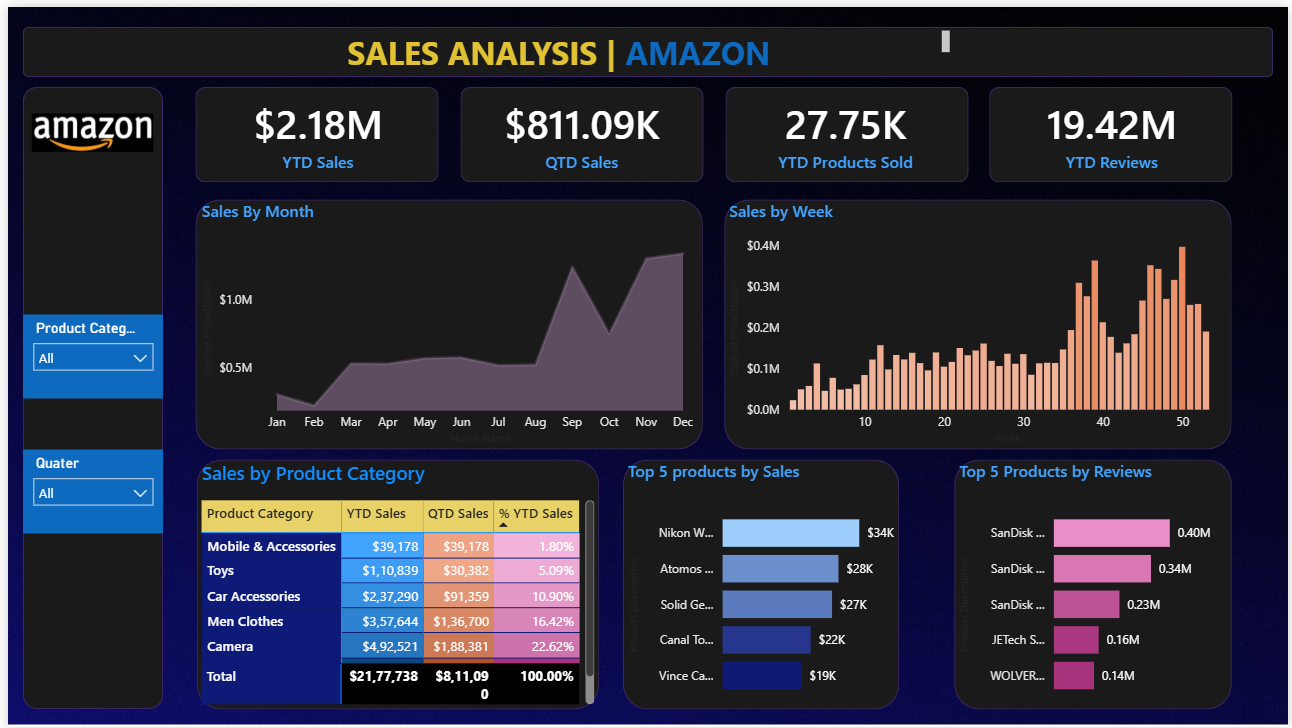

The page's visual inventory and layout, read from the dashboard file:
{"tool":"powerbi","page":{"name":"Page 1","canvas":[1280,720],"ordinal":0},"visuals":[{"type":"shape","box":[187.2,80.2,243,95.3],"z":0,"group":"g1"},{"type":"shape","box":[188.8,452.5,402.5,250],"z":0},{"type":"shape","box":[15.1,19.8,1250,50],"z":1000},{"type":"card","fields":{"Values":["Amazon_Data.YTD Sales"]},"box":[188.4,80.2,243,93],"z":1000,"group":"g1"},{"type":"textbox","box":[333.7,18.6,612.8,52.3],"z":2000},{"type":"shape","box":[451.9,80.2,243,95.3],"z":2000,"group":"g1"},{"type":"group","id":"g1","title":"Group 1","box":[187.2,80.2,1038.4,95.3],"z":3000},{"type":"shape","box":[716.7,80.2,243,95.3],"z":3000,"group":"g1"},{"type":"shape","box":[981.4,80.2,243,95.3],"z":4000,"group":"g1"},{"type":"shape","box":[187.5,192.5,507.5,250],"z":4000},{"type":"card","fields":{"Values":["Amazon_Data.QTD Sales"]},"box":[452.3,80.2,243,93],"z":5000,"group":"g1"},{"type":"areaChart","title":"Sales By Month","fields":{"Category":["Date Table.Month Name"],"Y":["Sum(Amazon_Data.Price(Dollar))"]},"box":[188.8,192.5,506.2,250],"z":5000},{"type":"card","fields":{"Values":["Amazon_Data.YTD Products Sold"]},"box":[716.3,80.2,243,93],"z":6000,"group":"g1"},{"type":"shape","box":[716.2,192.5,507.5,250],"z":6000},{"type":"card","fields":{"Values":["Amazon_Data.YTD Reviews"]},"box":[982.5,80.2,243,93],"z":7000,"group":"g1"},{"type":"columnChart","title":"Sales by Week","fields":{"Y":["Sum(Amazon_Data.Price(Dollar))"],"Category":["Date Table.Week"]},"box":[716.2,192.5,510,250],"z":7000},{"type":"pivotTable","title":"Sales by Product Category","fields":{"Rows":["Amazon_Data.Product Category"],"Values":["Amazon_Data.YTD Sales1","Amazon_Data.QTD Sales1","Amazon_Data.YTD Sales"]},"box":[188.8,452.5,402.5,250],"z":8000},{"type":"shape","box":[615,452.5,276.2,250],"z":9000},{"type":"shape","box":[946.2,452.5,277.5,250],"z":10000},{"type":"clusteredBarChart","title":"Top 5 products by Sales","fields":{"Category":["Amazon_Data.Product Description"],"Y":["Amazon_Data.YTD Sales"]},"box":[615,452.5,276.2,250],"z":11000},{"type":"clusteredBarChart","title":"Top 5 Products by Reviews","fields":{"Category":["Amazon_Data.Product Description"],"Y":["Amazon_Data.YTD Reviews"]},"box":[946.2,452.5,277.5,250],"z":12000},{"type":"shape","box":[15,80,140,622],"z":13000},{"type":"slicer","fields":{"Values":["Amazon_Data.Product Category"]},"box":[15,307.5,140,83.8],"z":14000},{"type":"slicer","fields":{"Values":["Date Table.Quater"]},"box":[15,442.5,140,83.8],"z":15000},{"type":"image","box":[23.8,22.5,121.2,206.2],"z":16000}]}

Visuals, with their boxes in screenshot pixels (x1, y1, x2, y2), scaled from the page's 1280x720 canvas onto the 1292x728 screenshot:
shape: select_region(189, 81, 434, 177)
shape: select_region(191, 458, 597, 710)
shape: select_region(15, 20, 1277, 71)
card - Amazon_Data.YTD Sales: select_region(190, 81, 435, 175)
textbox: select_region(337, 19, 955, 72)
shape: select_region(456, 81, 701, 177)
"Group 1" group: select_region(189, 81, 1237, 177)
shape: select_region(723, 81, 969, 177)
shape: select_region(991, 81, 1236, 177)
shape: select_region(189, 195, 702, 447)
card - Amazon_Data.QTD Sales: select_region(457, 81, 702, 175)
"Sales By Month" areaChart: select_region(191, 195, 702, 447)
card - Amazon_Data.YTD Products Sold: select_region(723, 81, 968, 175)
shape: select_region(723, 195, 1235, 447)
card - Amazon_Data.YTD Reviews: select_region(992, 81, 1237, 175)
"Sales by Week" columnChart: select_region(723, 195, 1238, 447)
"Sales by Product Category" pivotTable: select_region(191, 458, 597, 710)
shape: select_region(621, 458, 900, 710)
shape: select_region(955, 458, 1235, 710)
"Top 5 products by Sales" clusteredBarChart: select_region(621, 458, 900, 710)
"Top 5 Products by Reviews" clusteredBarChart: select_region(955, 458, 1235, 710)
shape: select_region(15, 81, 156, 710)
slicer - Amazon_Data.Product Category: select_region(15, 311, 156, 396)
slicer - Date Table.Quater: select_region(15, 447, 156, 532)
image: select_region(24, 23, 146, 231)
